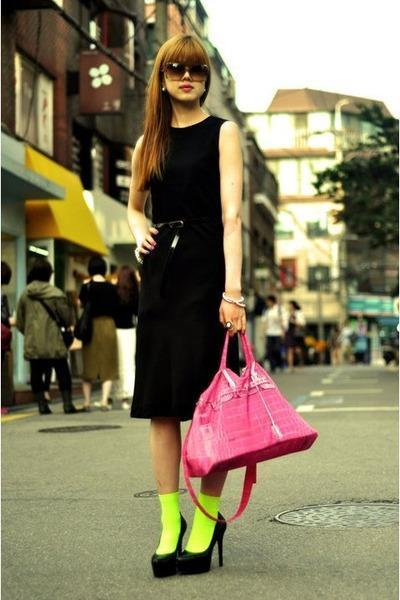bag: (173, 348, 317, 516)
dress: (134, 115, 245, 414)
shoe: (151, 512, 226, 578)
